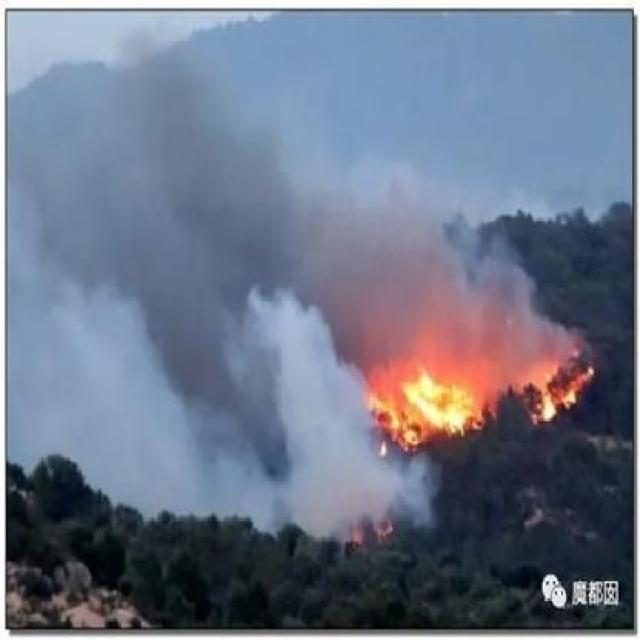Fire: (372, 343, 604, 448)
Smoke: (6, 2, 364, 544), (366, 14, 640, 346), (366, 452, 444, 544)
